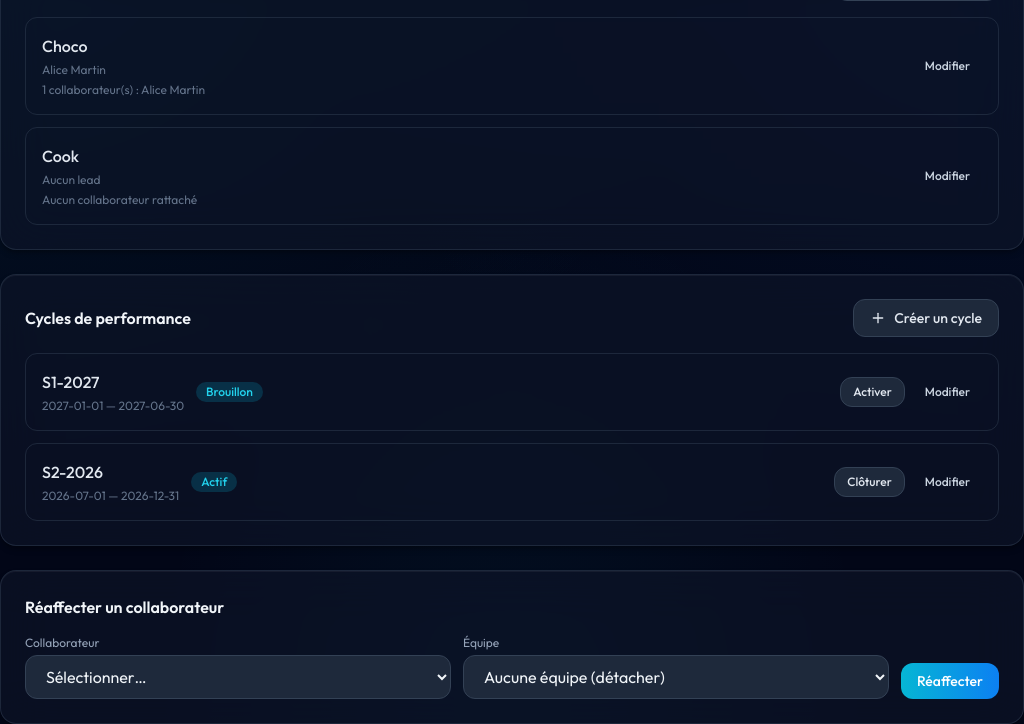
Scenario: TeamsCyclesAdminPanel › réaffecte un collaborateur à une équipe puis recharge le roster
(page scrolled)
Select "Bob Dupont — sans équipe" in the dropdown labelled "Collaborateur": (238, 677) [25, 655, 451, 699]
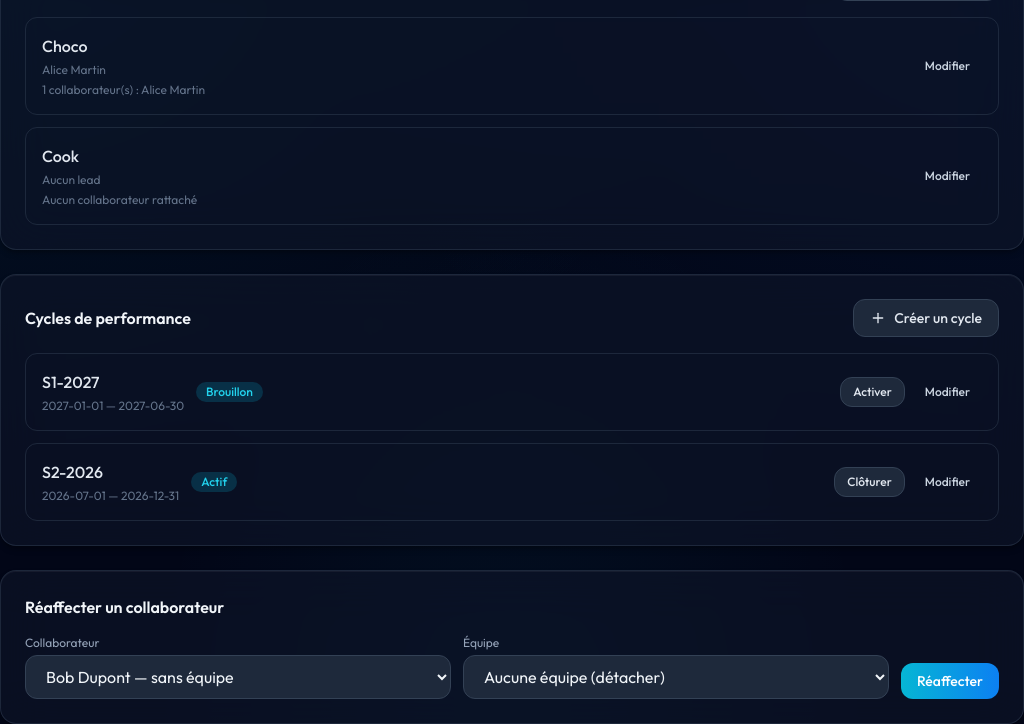
Select "Cook" in the dropdown labelled "Équipe": (676, 677) [463, 655, 889, 699]
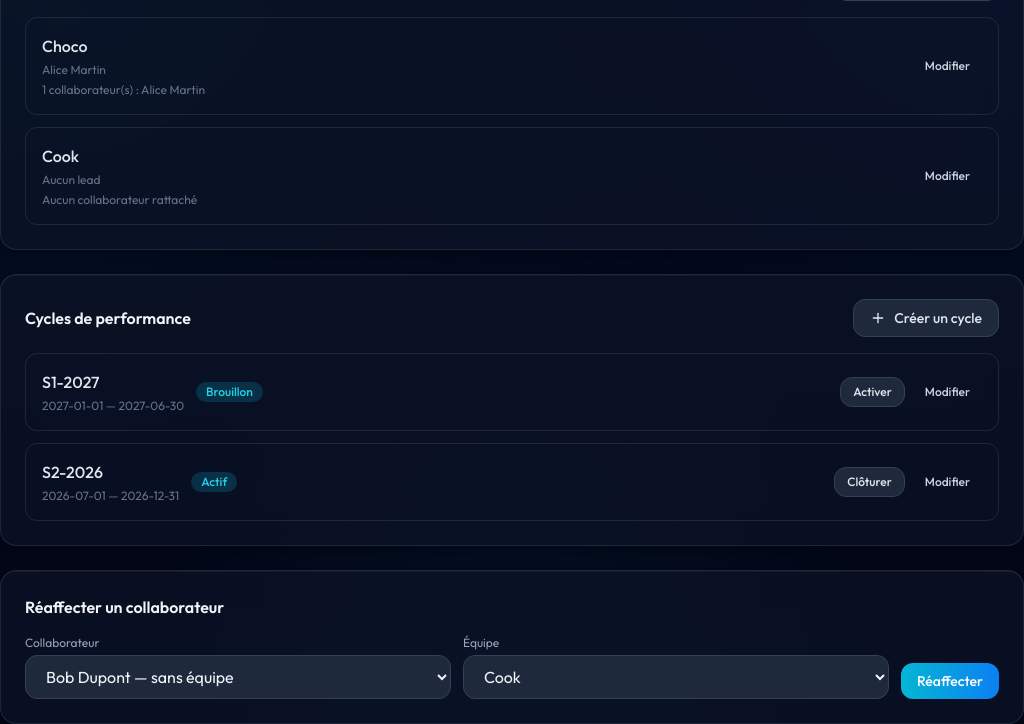
Click the button "Réaffecter": (950, 681) [901, 663, 999, 699]
(page scrolled)
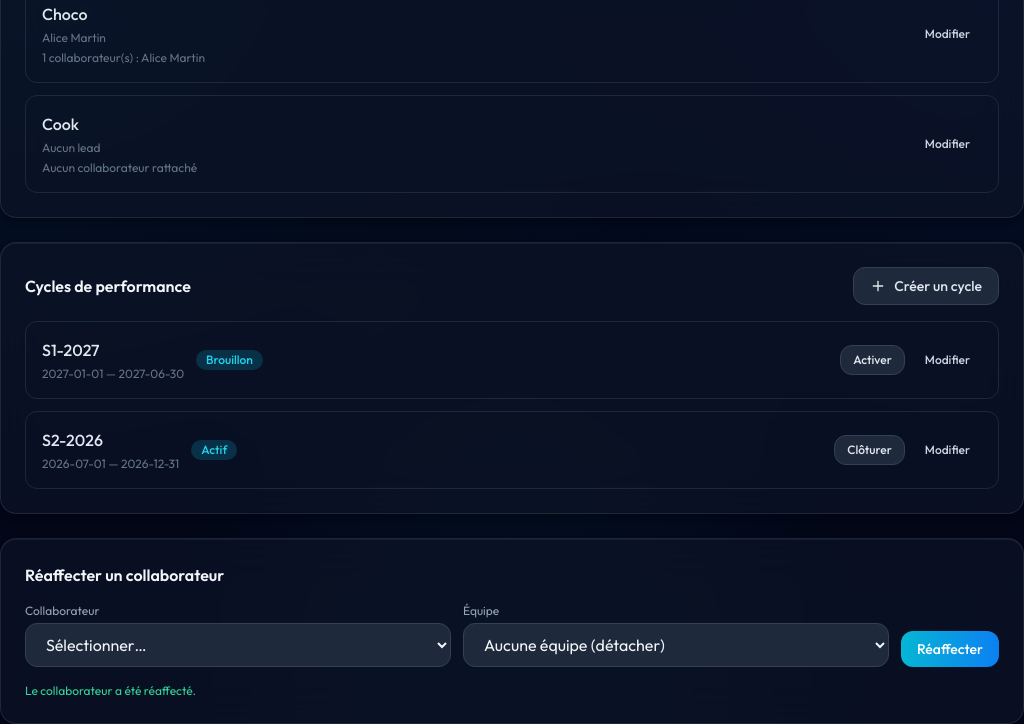
Result: the text "Le collaborateur a été réaffecté." is shown at [25, 683, 196, 698]
